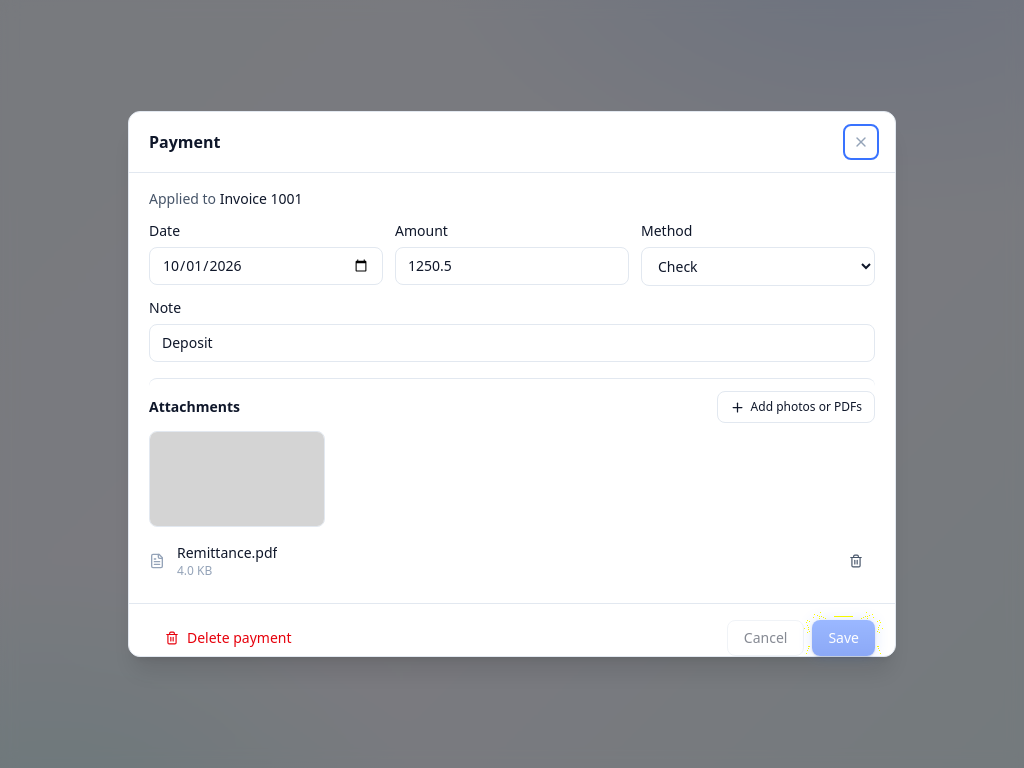
Test: PaymentDetailModal — the payment › Save and Cancel wake up only on an edit; Cancel puts the saved values back
Expected: the text "Invoice 1001" is shown, x1=220 y1=189 x2=303 y2=208
Expected: the button "Save" is disabled, x1=812 y1=620 x2=875 y2=656
Replace the text in the number field labelled "Amount" with "1300": (512, 266) x1=395 y1=247 x2=629 y2=285
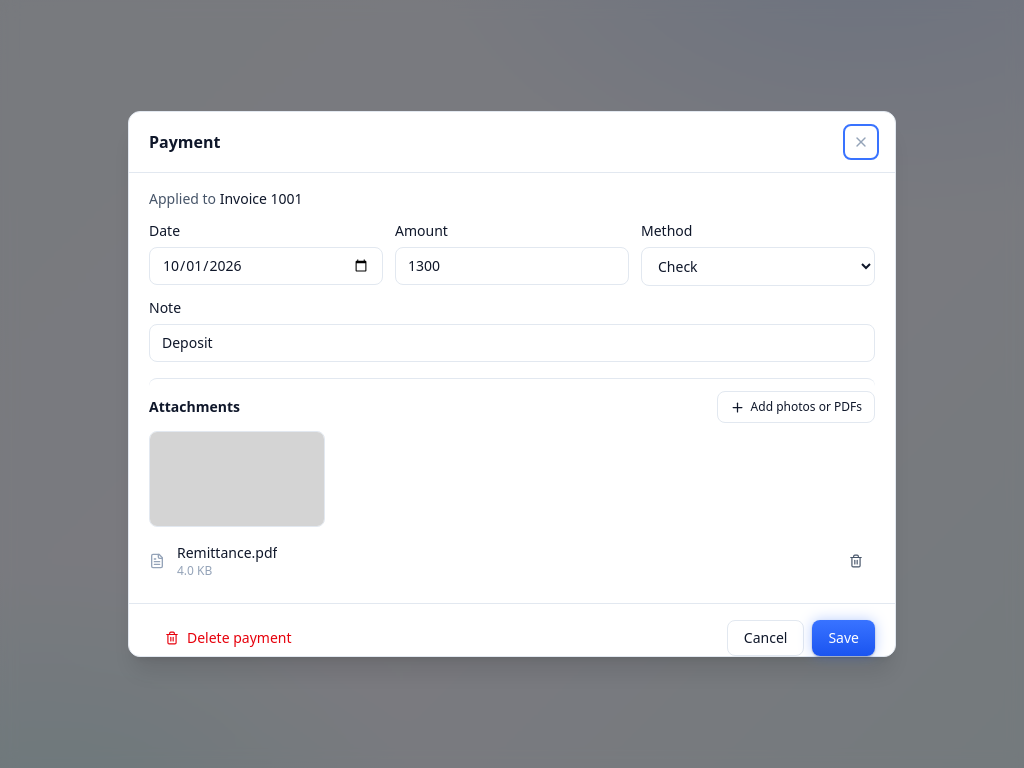
Result: the button "Save" is enabled at x1=812 y1=620 x2=875 y2=656
Click the button "Cancel": click(766, 638) x1=727 y1=620 x2=804 y2=656
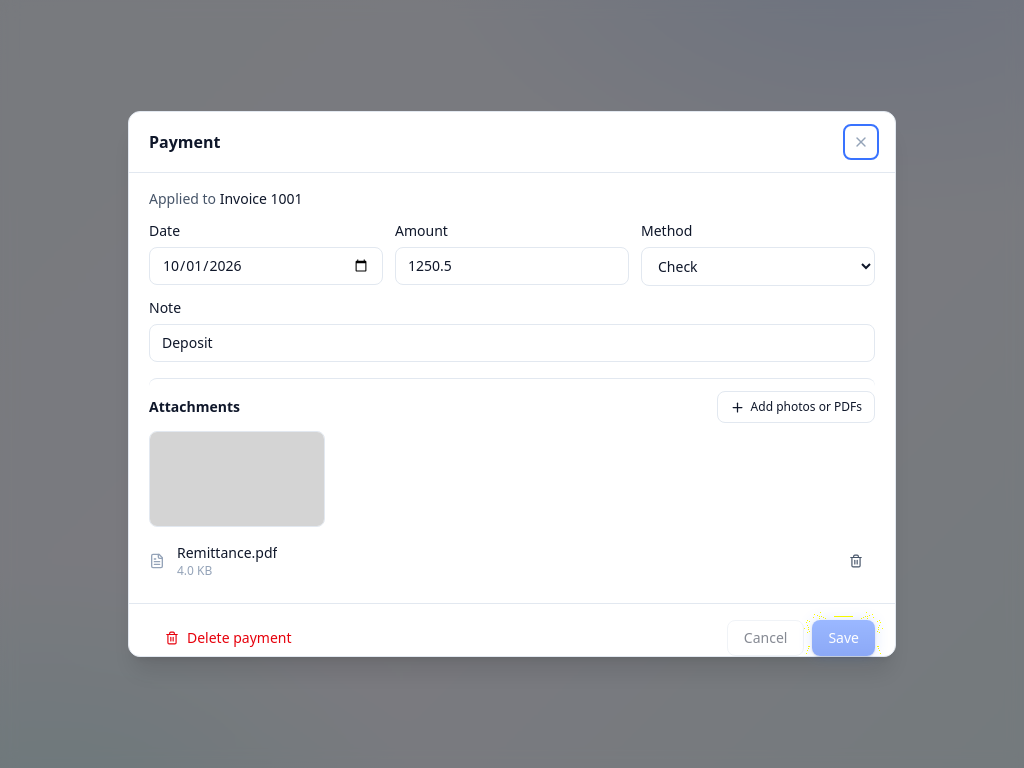
Result: the number field labelled "Amount" holds "1250.5" at x1=395 y1=247 x2=629 y2=285
Result: the button "Save" is disabled at x1=812 y1=620 x2=875 y2=656
